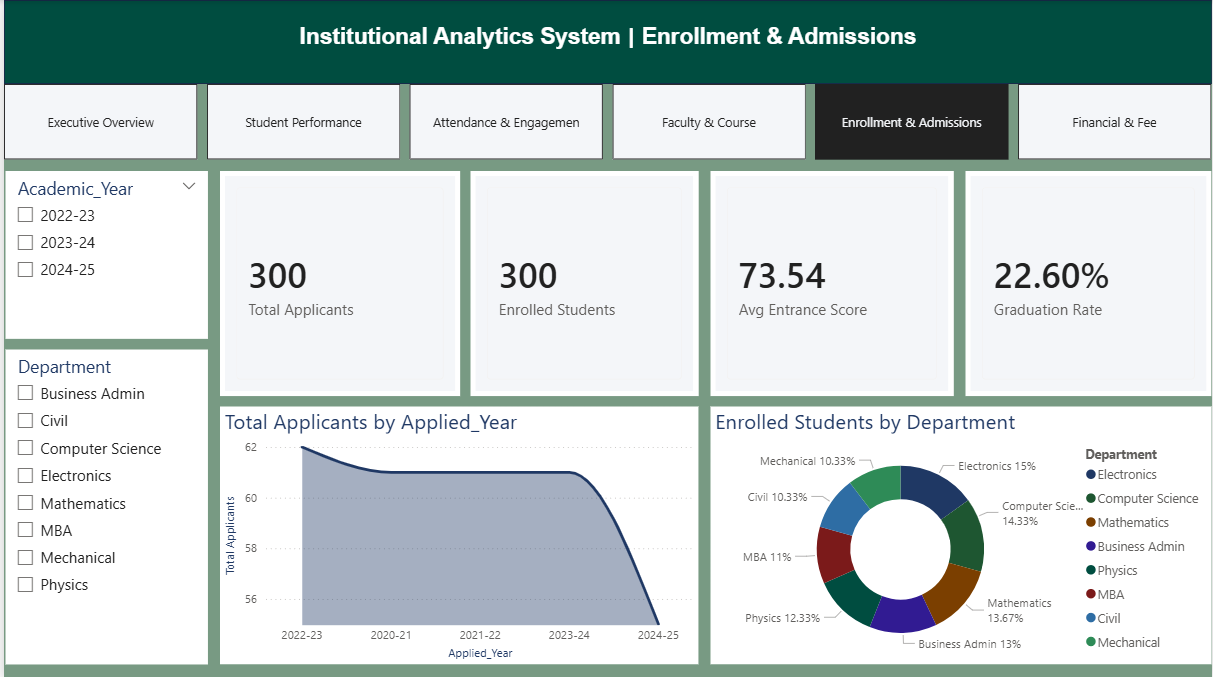

This screenshot's page, from the dashboard's own definition file:
{"tool":"powerbi","page":{"name":"Enrollment & Admissions","canvas":[1280,720],"ordinal":4},"visuals":[{"type":"shape","box":[0,0,1280.8,89.1],"z":0},{"type":"textbox","box":[0,19.4,1280.8,69.6],"z":1000},{"type":"pageNavigator","box":[0,89.1,1280.8,81],"z":2000},{"type":"slicer","fields":{"Values":["Students_Master.Academic_Year"]},"box":[1.6,181.3,214.7,178.1],"z":3000},{"type":"slicer","fields":{"Values":["Students_Master.Department"]},"box":[1.6,370.6,214.7,334],"z":4000},{"type":"cardVisual","fields":{"Data":["Admissions.Total Applicants"]},"box":[229,181.3,254.5,238.6],"z":5000},{"type":"cardVisual","fields":{"Data":["Admissions.Enrolled Students"]},"box":[494.7,181.3,241.8,238.6],"z":6000},{"type":"cardVisual","fields":{"Data":["Admissions.Avg Entrance Score"]},"box":[749.2,181.3,257.7,238.6],"z":7000},{"type":"cardVisual","fields":{"Data":["Admissions.Graduation Rate"]},"box":[1019.6,181.3,260.9,238.6],"z":8000},{"type":"areaChart","fields":{"Category":["Admissions.Applied_Year"],"Y":["Admissions.Total Applicants"]},"box":[229,431.1,507.4,273.6],"z":9000},{"type":"donutChart","fields":{"Category":["Admissions.Department"],"Y":["Admissions.Enrolled Students"]},"box":[749.2,431.1,531.3,273.6],"z":10000}]}

Visuals, with their boxes in screenshot pixels (x1, y1, x2, y2), scaled from the page's 1280x720 canvas onto the 1213x677 screenshot:
shape: 0 0 1212 84
textbox: 0 18 1212 84
pageNavigator: 0 84 1212 160
slicer - Students_Master.Academic_Year: 2 170 205 338
slicer - Students_Master.Department: 2 348 205 663
cardVisual - Admissions.Total Applicants: 217 170 458 395
cardVisual - Admissions.Enrolled Students: 469 170 698 395
cardVisual - Admissions.Avg Entrance Score: 710 170 954 395
cardVisual - Admissions.Graduation Rate: 966 170 1212 395
areaChart - Admissions.Applied_Year x Admissions.Total Applicants: 217 405 698 663
donutChart - Admissions.Department x Admissions.Enrolled Students: 710 405 1212 663
